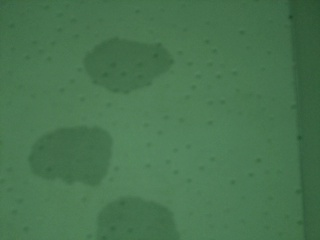Water_detected: (43, 128, 103, 184), (106, 199, 163, 240), (99, 40, 154, 81)
